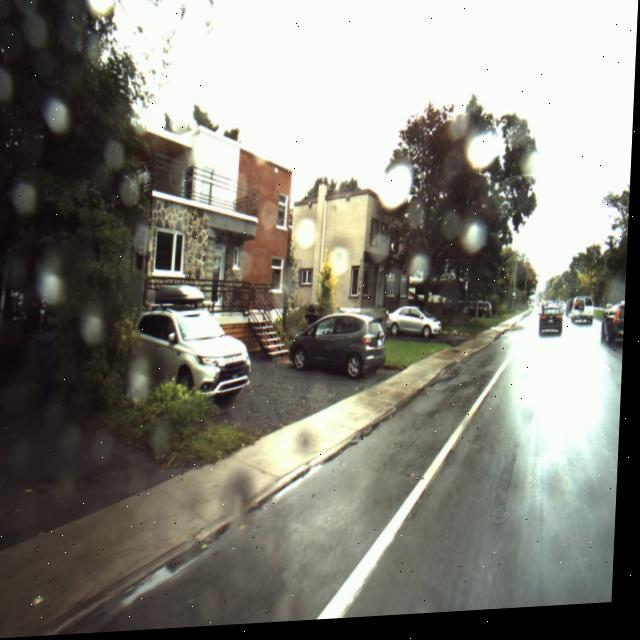car: (136, 306, 258, 408), (291, 316, 391, 387), (389, 310, 445, 348), (603, 309, 628, 354), (541, 311, 567, 343), (573, 302, 597, 334)
